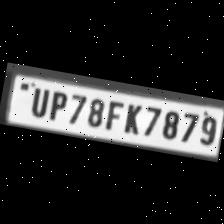7: (175, 108, 200, 146), (61, 89, 86, 126), (138, 103, 162, 139)
8: (156, 106, 182, 142), (82, 94, 107, 130)
9: (194, 111, 220, 148)
F: (101, 97, 125, 133)
K: (118, 99, 145, 136)
P: (44, 87, 69, 123)
U: (25, 84, 51, 119)
